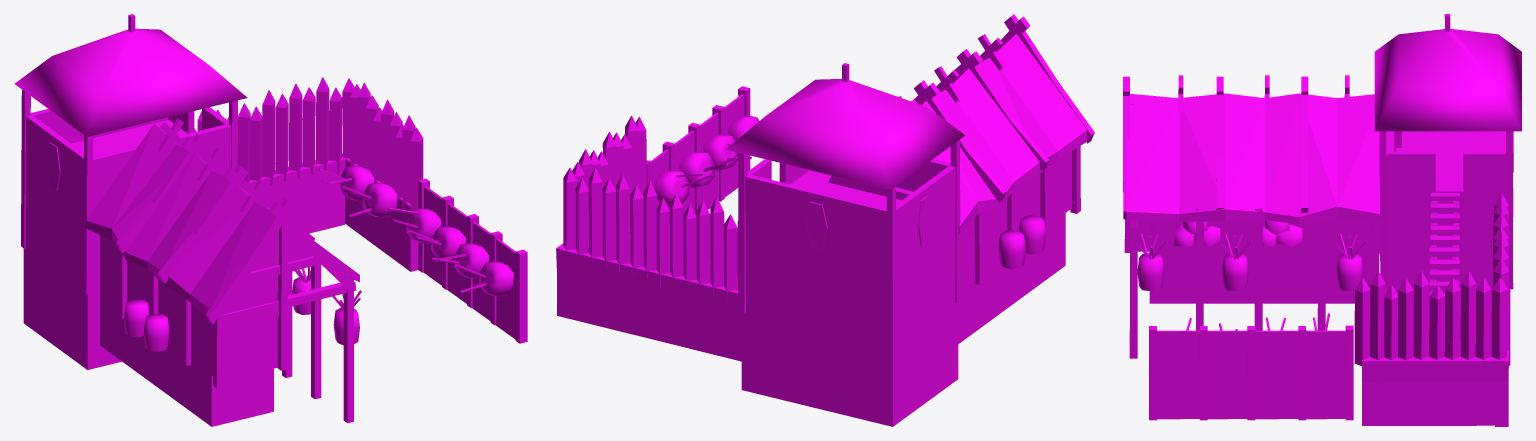
The model's file is range.glb.
The picture shows the model from 3 angles, left to right: view 1: azimuth 30°, elevation 25°; view 2: azimuth 150°, elevation 25°; view 3: azimuth 270°, elevation 25°; orthographic projection. The views are drawn at different scales.
Parts seen in each view (by area): view 1: germans_range-mesh; view 2: germans_range-mesh; view 3: germans_range-mesh.
Boxes of the visible parts, x1,y1,x2,y2 form: germans_range-mesh: (14, 14, 527, 426); germans_range-mesh: (556, 14, 1094, 426); germans_range-mesh: (1123, 14, 1521, 426).
Bounding box in the file's own units: 22.81 × 19.9 × 22.79.
